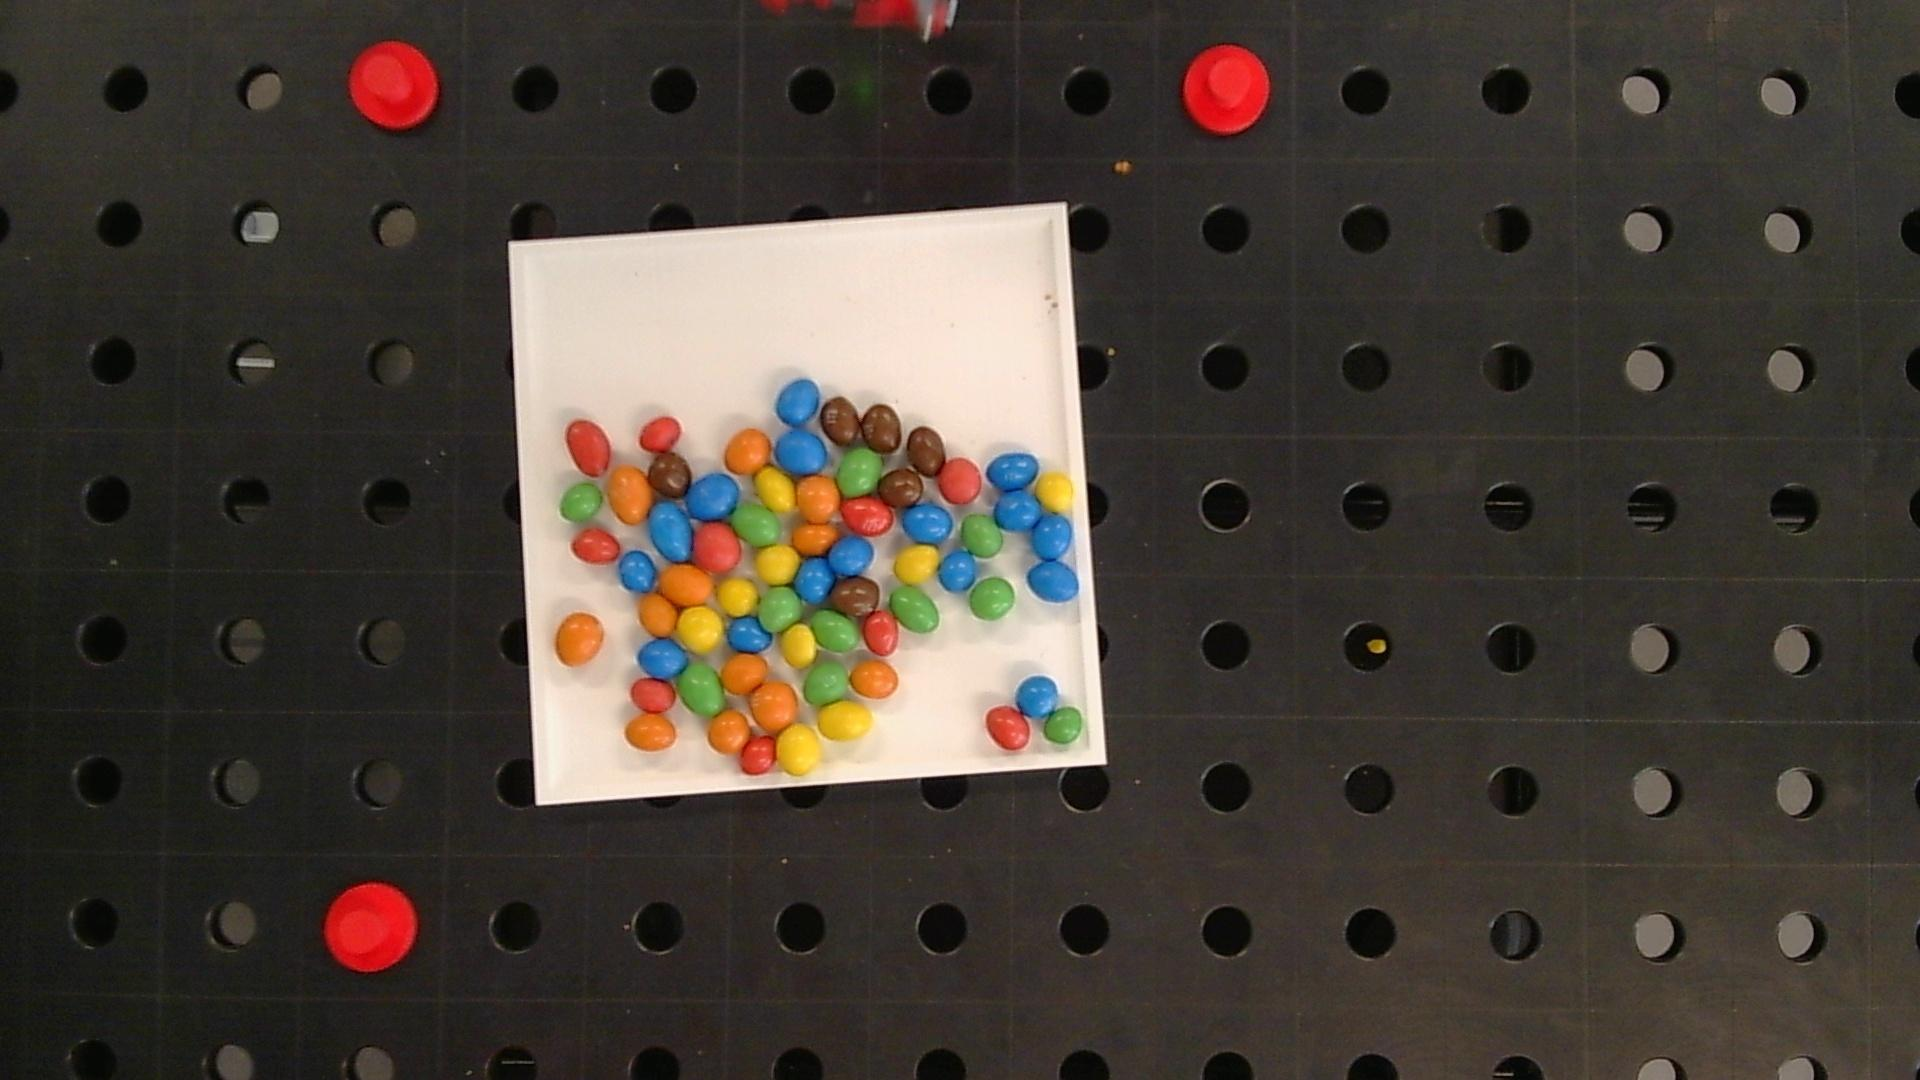blue: (650, 502, 692, 560), (688, 473, 740, 518), (777, 430, 827, 473), (1027, 560, 1079, 601), (777, 380, 820, 426), (1031, 513, 1073, 560), (903, 504, 953, 543), (988, 452, 1039, 491), (638, 638, 687, 676), (795, 556, 835, 601), (1017, 675, 1059, 716), (994, 492, 1040, 529), (831, 535, 873, 575), (727, 615, 771, 651), (939, 549, 976, 591), (618, 551, 655, 591)
brown: (861, 402, 902, 452), (647, 452, 691, 498), (877, 467, 923, 508), (822, 397, 860, 446), (833, 578, 880, 617), (907, 426, 944, 475)
green: (679, 662, 724, 715), (890, 587, 940, 633), (968, 576, 1017, 621), (837, 448, 882, 495), (732, 504, 781, 545), (803, 662, 847, 705), (812, 611, 858, 651), (760, 588, 802, 630), (963, 514, 1004, 558), (559, 483, 603, 522), (1043, 707, 1087, 745)
orange: (607, 465, 653, 522), (555, 612, 604, 665), (750, 682, 798, 731), (659, 564, 713, 604), (796, 476, 841, 524), (725, 429, 770, 472), (624, 715, 676, 750), (708, 711, 750, 754), (851, 661, 898, 699), (721, 654, 766, 694), (640, 593, 676, 636), (793, 524, 837, 554)
red: (566, 419, 611, 476), (694, 524, 741, 571), (936, 458, 982, 502), (985, 705, 1031, 749), (841, 497, 894, 534), (571, 529, 620, 563), (864, 611, 898, 655), (630, 678, 675, 712), (640, 415, 680, 451), (740, 737, 777, 774)
yellow: (777, 724, 820, 774), (816, 702, 873, 740), (678, 607, 724, 651), (893, 545, 939, 584), (757, 545, 800, 584), (756, 469, 795, 512), (781, 625, 816, 667), (1036, 472, 1073, 512), (717, 578, 757, 615)
